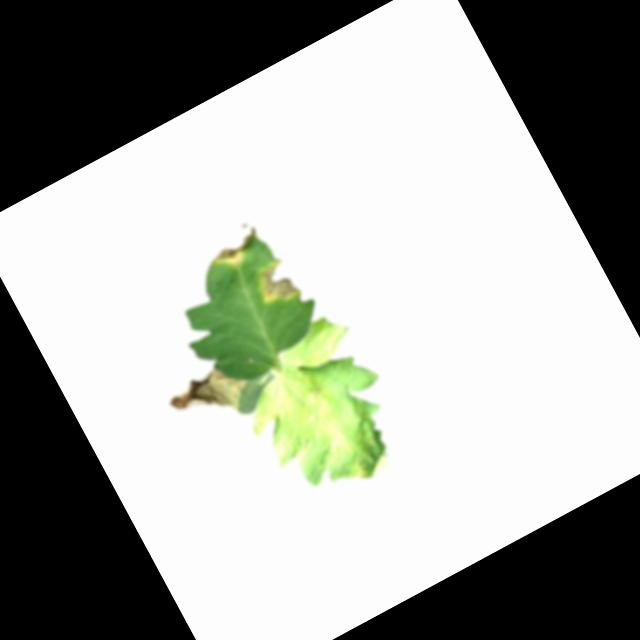Late_blight: (160, 353, 259, 441), (247, 254, 304, 313), (204, 220, 265, 274), (300, 377, 333, 408), (344, 453, 375, 484), (323, 434, 349, 462)
